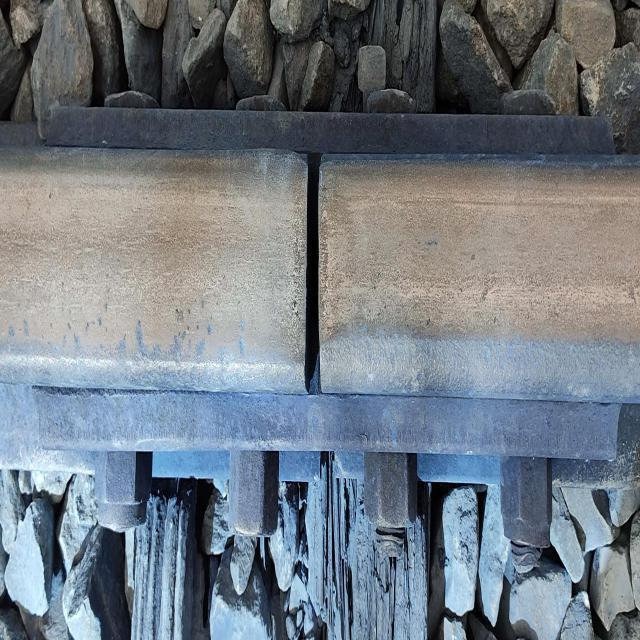Good Joint: (32, 92, 619, 521)
